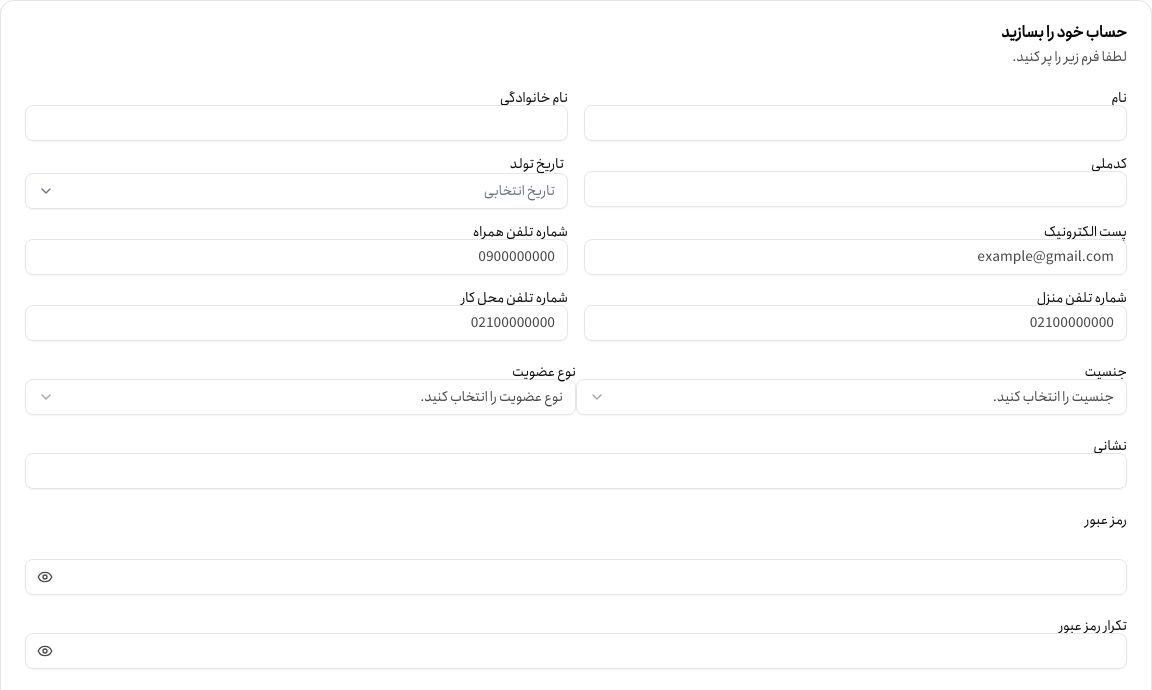
Test: SignupForm › controls password and confirmation visibility independently
This screenshot has width=1152, height=690.
Step 1. Type "safe-password" into the password field labelled "رمز عبور" → (576, 577), box [25,559,1127,595]
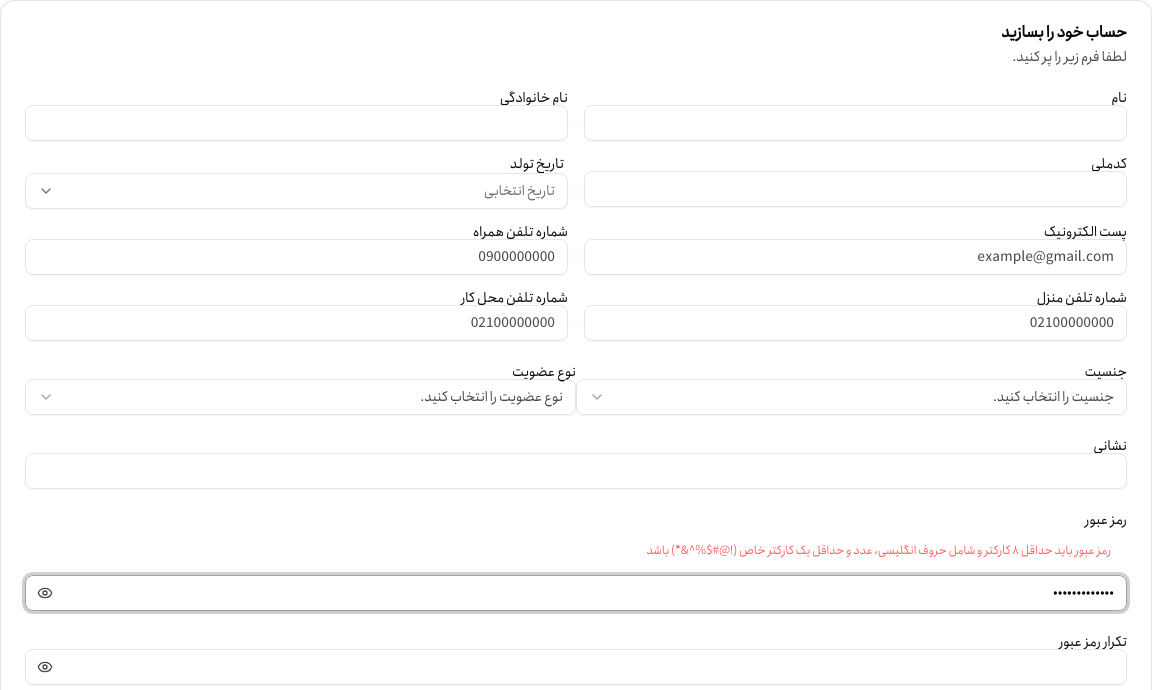
Step 2. Type "safe-password" into the password field labelled "تکرار رمز عبور" → (576, 667), box [25,649,1127,685]
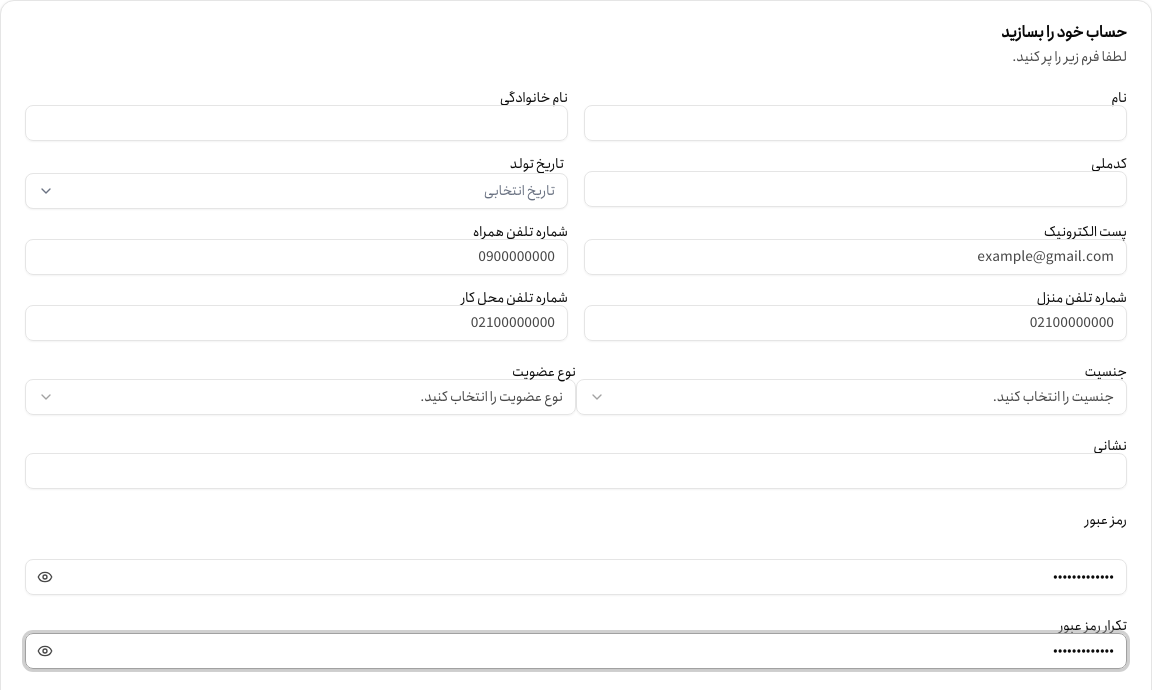
Step 3. Click the button named "نمایش رمز عبور" → (45, 577), box [33,565,57,589]
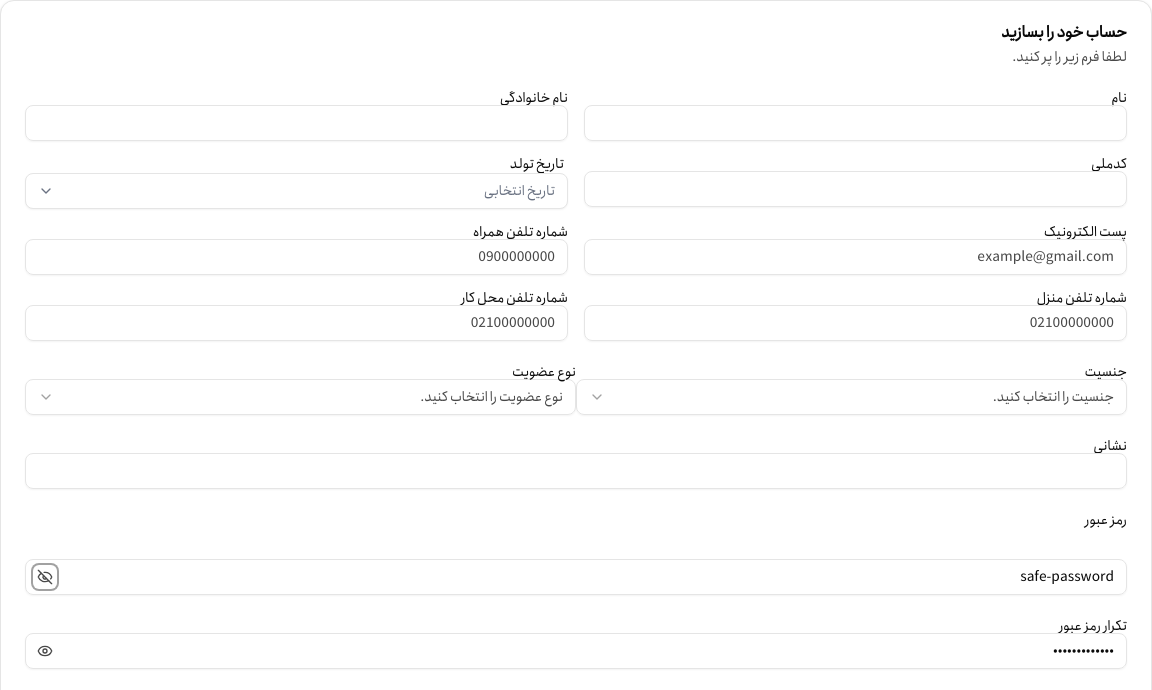
Check: the field labelled "رمز عبور" shows its text, box [25,559,1127,595]
Step 4. Click the button named "نمایش تکرار رمز عبور" → (45, 651), box [33,639,57,663]
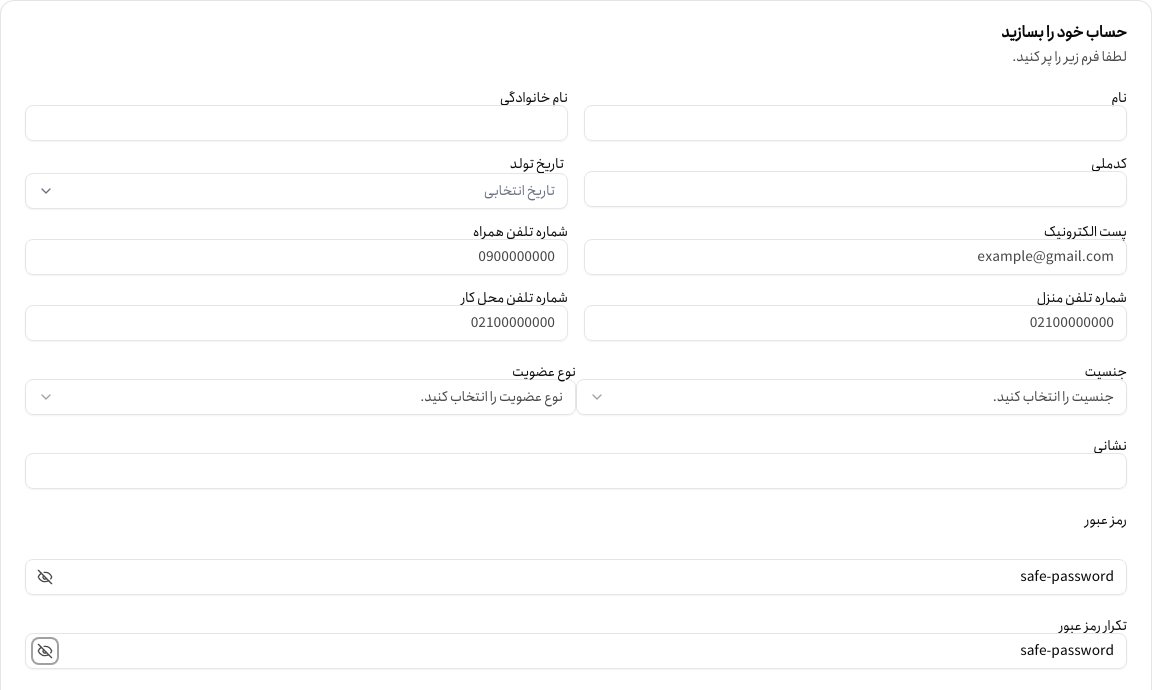
Check: the field labelled "رمز عبور" shows its text, box [25,559,1127,595]
Check: the field labelled "تکرار رمز عبور" shows its text, box [25,633,1127,669]
